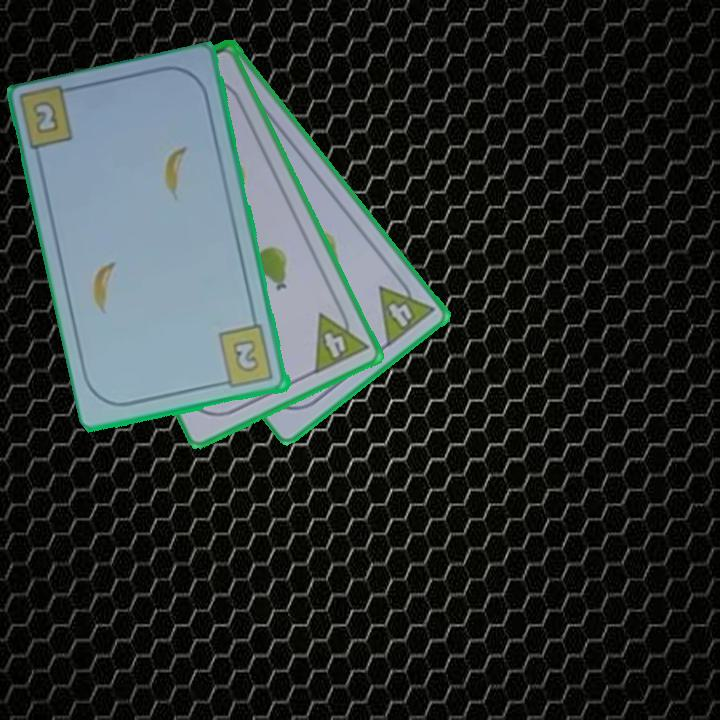2b: (215, 322, 277, 391), (29, 97, 63, 137)
4p: (375, 269, 438, 350), (310, 301, 372, 377)
